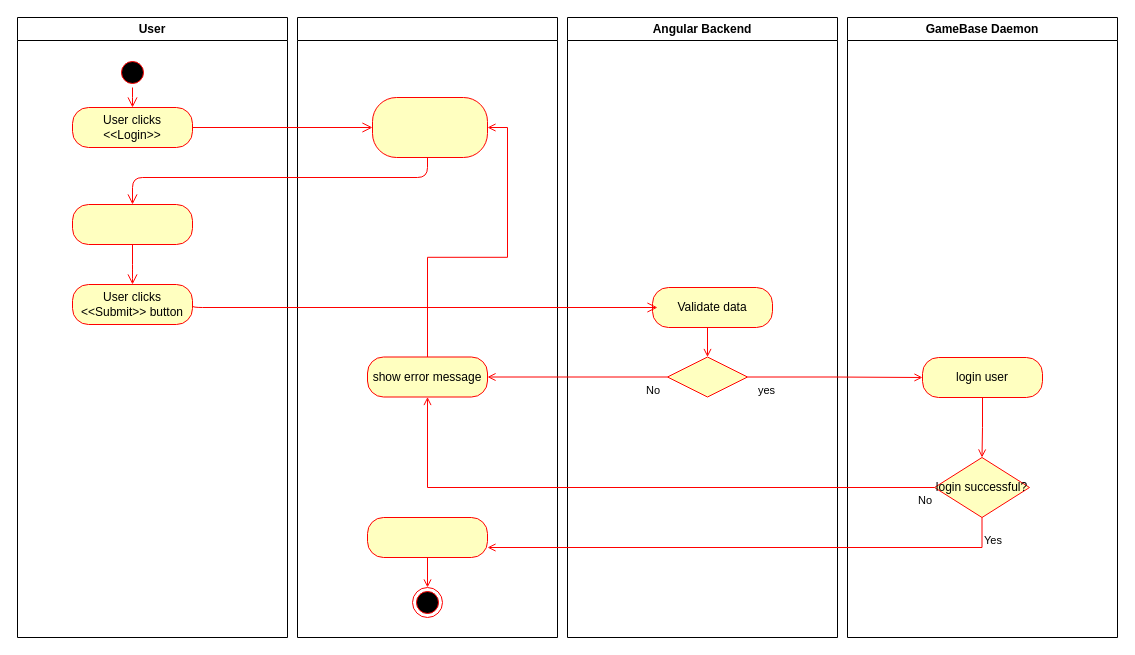
This 1135x655 diagram has some shape labels left out. Here are the shapes that lost their labels. From the top down, the box of each, then its label:
(372, 96, 488, 158): shows <<User Login>> Form
(72, 204, 192, 244): User enters the required information
(296, 16, 558, 638): UI
(666, 356, 748, 397): valid data?
(366, 516, 488, 558): show success message
